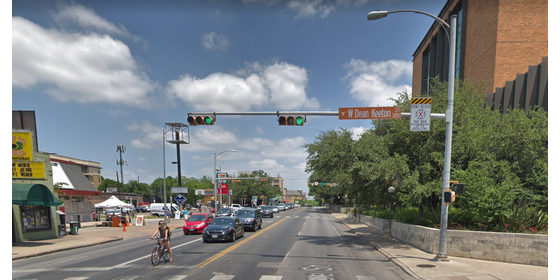dont block the box sign: (410, 95, 432, 134)
